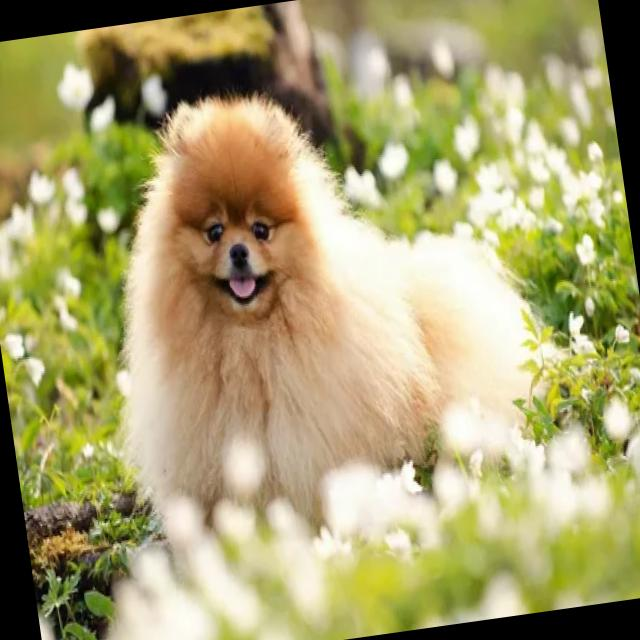Dog: (145, 92, 350, 510)
